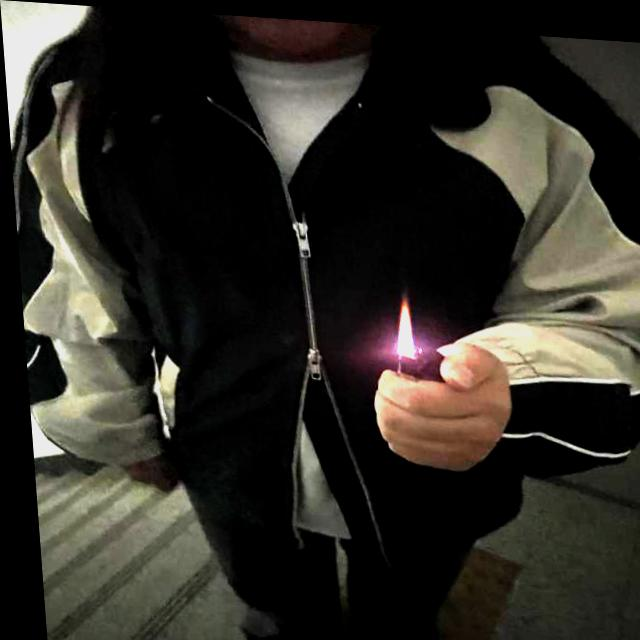helmet: (389, 293, 411, 343)
